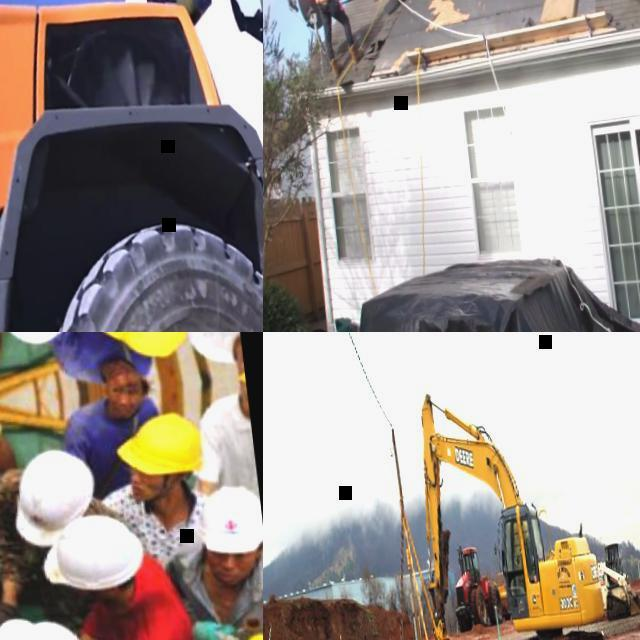helmet: (91, 405, 216, 567), (147, 480, 263, 640), (8, 442, 108, 556), (35, 512, 147, 596), (112, 406, 207, 486), (192, 484, 263, 559), (0, 599, 98, 640), (98, 332, 195, 364), (0, 332, 78, 345)
machinery: (0, 0, 263, 332), (401, 369, 615, 640), (448, 542, 510, 631), (595, 539, 640, 619)
no_helmet: (105, 374, 155, 400)
no_vest: (175, 556, 263, 637), (76, 402, 158, 488), (83, 585, 200, 640), (120, 494, 202, 570), (1, 498, 53, 592), (198, 401, 257, 480), (54, 332, 153, 378), (183, 332, 242, 342)
person: (0, 439, 128, 628), (35, 505, 200, 640), (57, 362, 166, 496), (188, 385, 258, 492), (50, 332, 160, 384), (305, 0, 367, 79), (0, 596, 98, 640), (88, 332, 194, 360), (168, 332, 245, 368), (224, 0, 263, 33)
